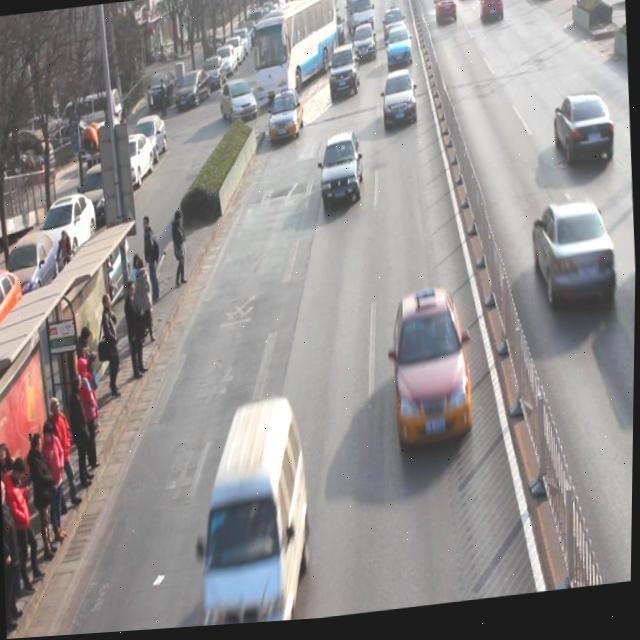car: (391, 292, 478, 455), (533, 202, 620, 317), (554, 98, 617, 177), (319, 133, 366, 215), (382, 73, 419, 134), (267, 91, 306, 148), (329, 47, 363, 107), (384, 29, 414, 77), (351, 26, 380, 71), (478, 0, 505, 32), (435, 0, 458, 32)
truck: (196, 395, 317, 629)
van: (251, 0, 340, 107)
